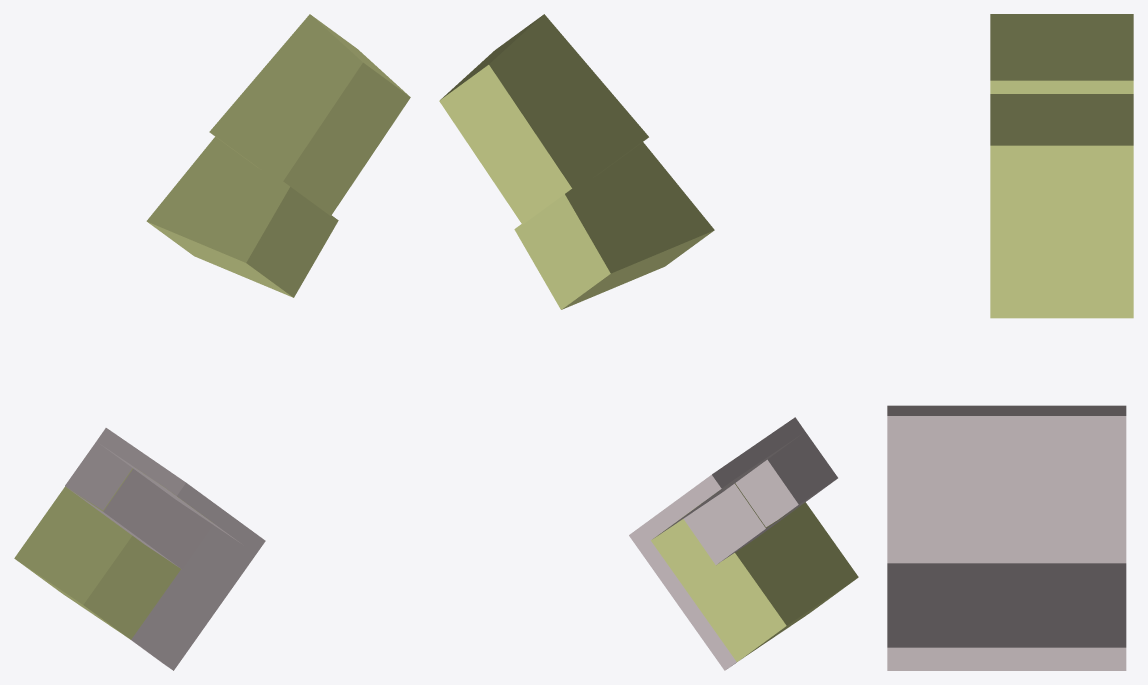
3 renders of one model, left to right at view 1: azimuth 30°, elevation 25°; view 2: azimuth 150°, elevation 25°; view 3: azimuth 270°, elevation 25°, orthographic. The views are drawn at different scales.
Parts seen in each view (by area): view 1: 0_2_3_2_2_0_2_3; view 2: 0_2_3_2_2_0_2_3; view 3: 0_2_3_2_2_0_2_3.
Part boxes in pixels (x1,y1,x2,y2): 0_2_3_2_2_0_2_3: [14, 14, 410, 670]; 0_2_3_2_2_0_2_3: [439, 14, 858, 670]; 0_2_3_2_2_0_2_3: [887, 14, 1133, 670].
Bounding box in the file's own units: 38.3 × 56.55 × 15.47.
